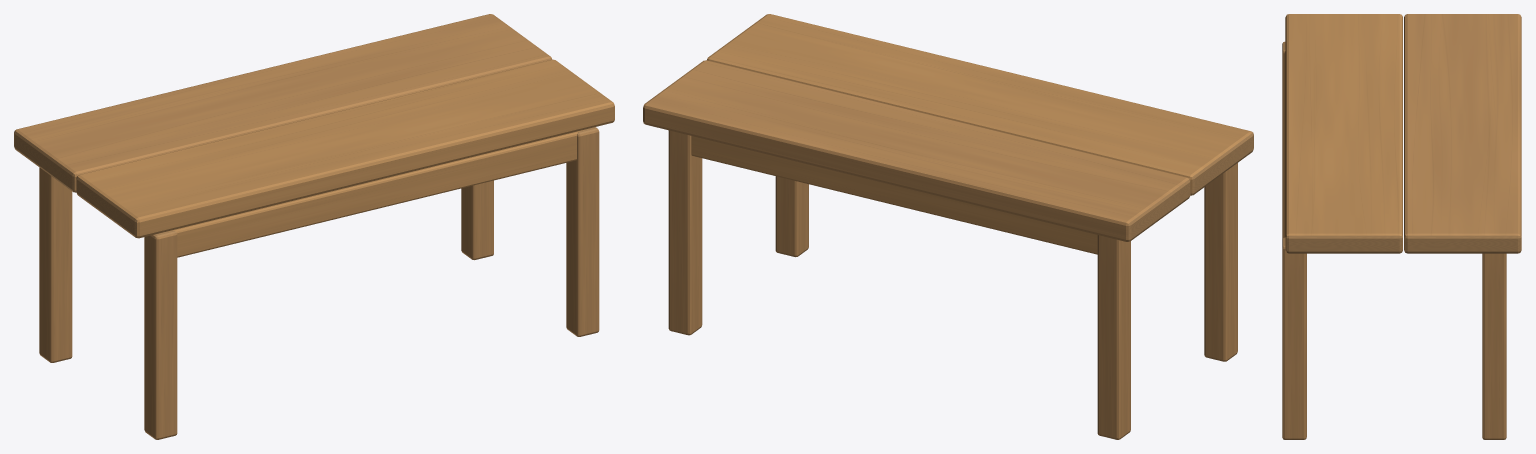
The model's file is tiered-riser.glb.
The picture shows the model from 3 angles, left to right: view 1: azimuth 30°, elevation 25°; view 2: azimuth 150°, elevation 25°; view 3: azimuth 270°, elevation 25°; orthographic projection. The views are drawn at different scales.
Parts seen in each view (by area): view 1: paper-foundation-v1/tiered-riser; view 2: paper-foundation-v1/tiered-riser; view 3: paper-foundation-v1/tiered-riser.
Part boxes in pixels (x1,y1,x2,y2): paper-foundation-v1/tiered-riser: (14,14,614,439); paper-foundation-v1/tiered-riser: (643,14,1253,439); paper-foundation-v1/tiered-riser: (1282,14,1521,439).
Size of the model in its own units: 0.58 by 0.26 by 0.2635.
3 materials, 3 textured.
